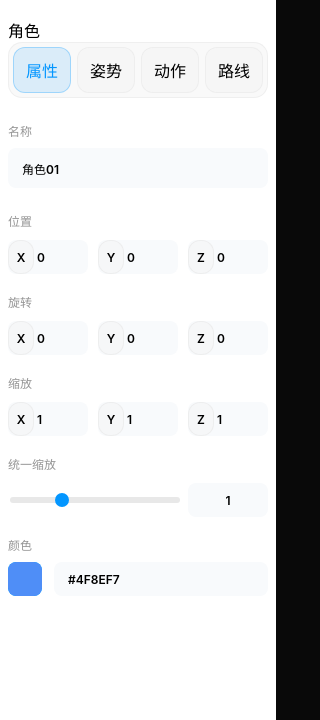
lets a native-only character replay its own embedded actions without exposing unrelated actions
Click the button "动作". click: (170, 70)
box: [141, 47, 199, 93]
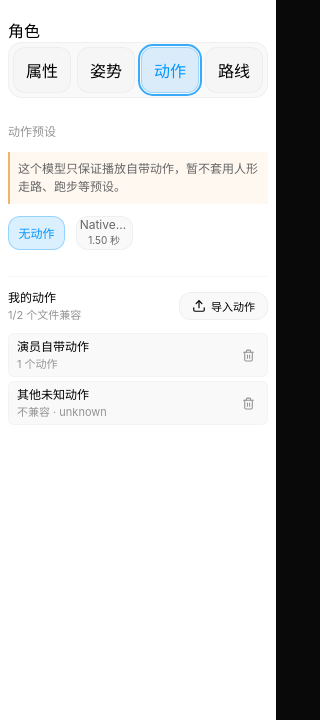
Check: the message shows "只保证播放自带动作", box [18, 161, 258, 194]
Check: the button with aria-label "播放导入动作 演员自带动作 · Native Walk" is shown, box [76, 216, 133, 250]
